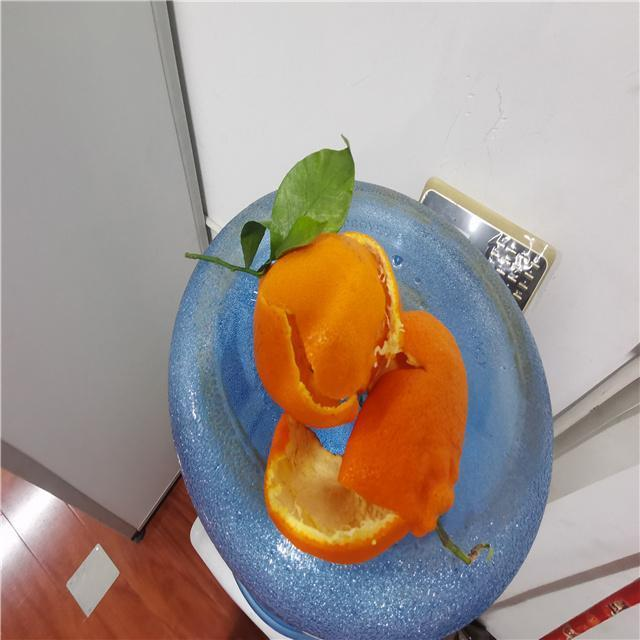orange peel: (338, 308, 470, 540), (252, 229, 406, 427), (261, 405, 413, 568)
